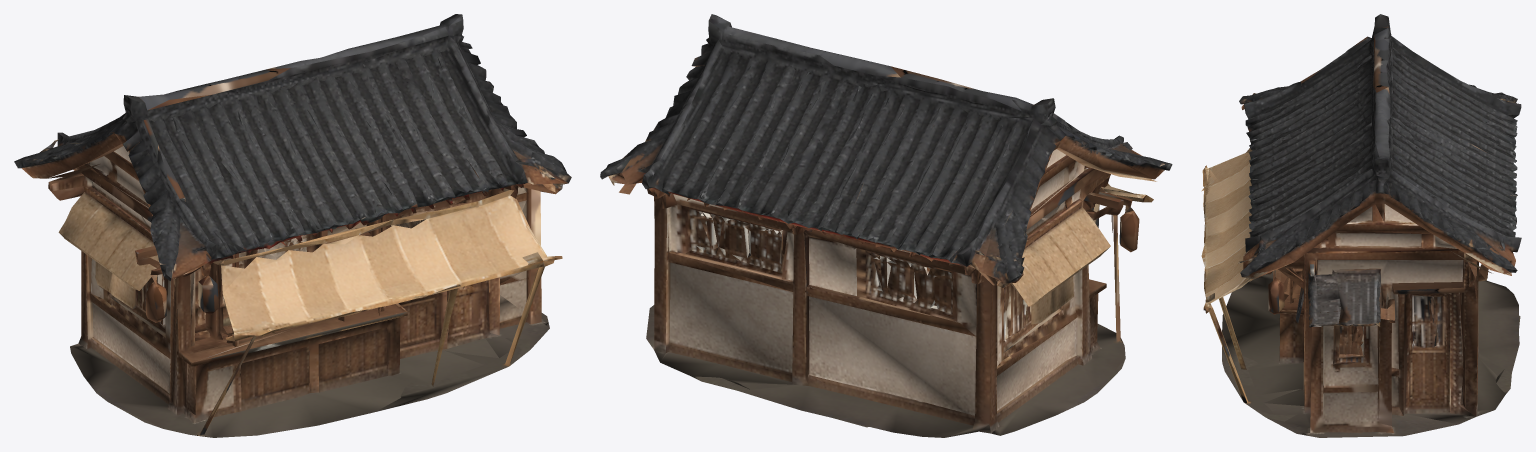
Rendered from 05_Tea_Stall_Shop_LOD2.fbx.
The picture shows the model from 3 angles, left to right: view 1: azimuth 30°, elevation 25°; view 2: azimuth 150°, elevation 25°; view 3: azimuth 270°, elevation 25°; orthographic projection. The views are drawn at different scales.
Parts seen in each view (by area): view 1: 05_Tea_Stall_Shop_L2; view 2: 05_Tea_Stall_Shop_L2; view 3: 05_Tea_Stall_Shop_L2.
Boxes of the visible parts, left/top/right/bottom form: 05_Tea_Stall_Shop_L2: left=14, top=14, right=571, bottom=437; 05_Tea_Stall_Shop_L2: left=600, top=14, right=1172, bottom=437; 05_Tea_Stall_Shop_L2: left=1201, top=14, right=1521, bottom=437.
Bounding box in the file's own units: 7.9 × 5 × 5.64.
